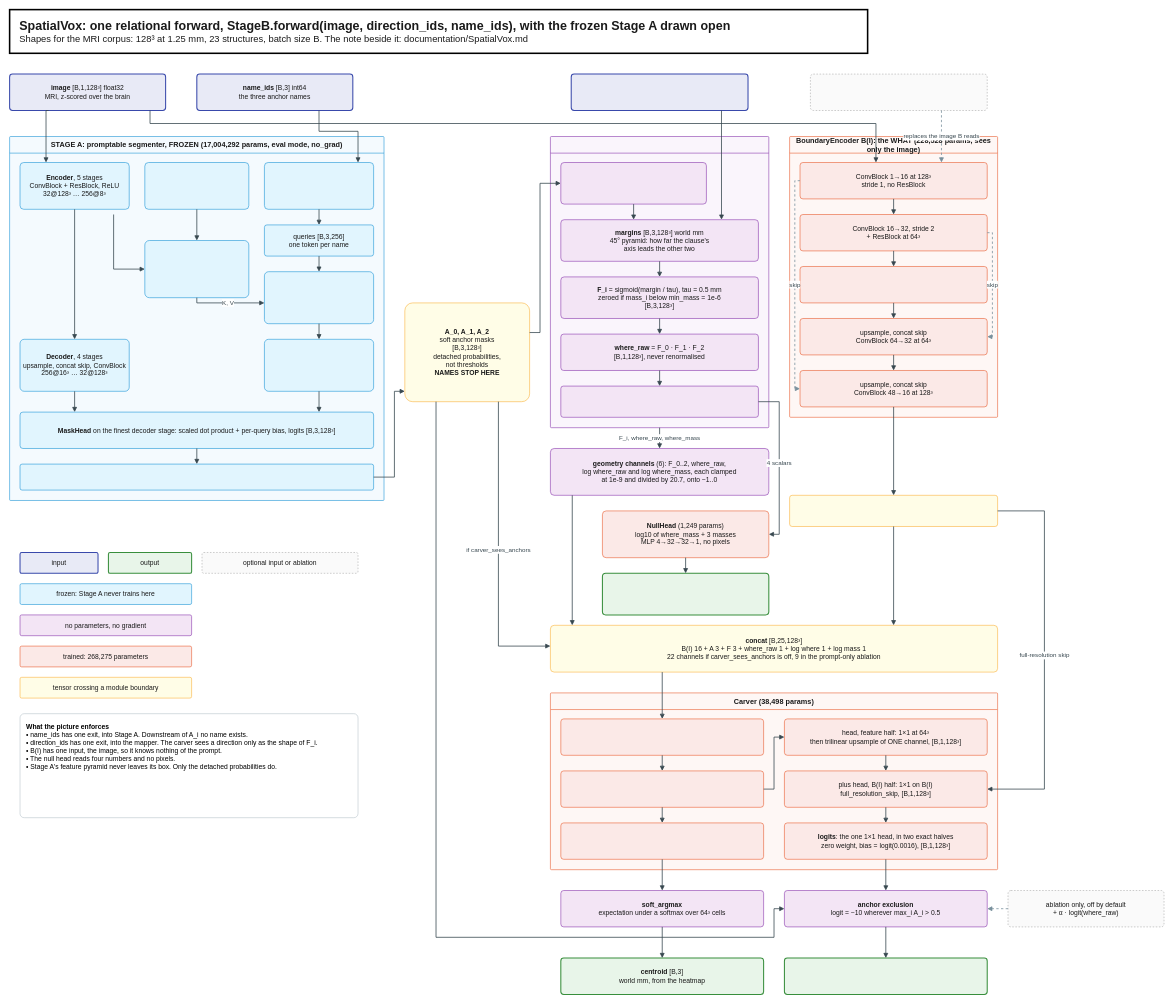
Image size: 1173x1004. Some labels were removed from this diagram. The shapes that lost their labels are listed below. From the top down, each one's box as (x1, y1, x2, y2) in pixels, then its label:
(570, 73, 748, 111): direction_ids [B,3] int64 one direction per clause
(810, 74, 987, 110): boundary_image= [B,1,128³], optional image-replacement test only
(144, 162, 249, 209): PosEnc3D pos_z + pos_y + pos_x 6,144 params
(264, 162, 374, 209): NamePrompt Embedding 23×256 then Linear 256→256
(560, 162, 706, 204): soft_centroids c_i [B,3,3] world mm mass_i [B,3]
(144, 240, 249, 298): bottleneck tokens values = flatten 8³ [B,512,256] keys = values + pos
(550, 136, 769, 428): PositionalMapper3D: the WHERE (0 params, no_grad)
(800, 266, 987, 303): ConvBlock 32→32, stride 2 + ResBlock at 32³
(264, 271, 374, 324): MultiheadAttention 256 dims, 4 heads Q = names, K = keys, V = values
(264, 339, 374, 391): LayerNorm (attended + queries) aligned queries [B,3,256]
(560, 386, 758, 417): where_mass = mean(where_raw) [B,1] plus masses [B,3]
(20, 464, 374, 490): sigmoid in float32, then detach
(789, 495, 998, 526): B(I) [B,16,128³]
(602, 573, 769, 615): valid [B]: one logit, do the clauses name a structure
(560, 718, 764, 755): stem : ConvBlock 25→16, stride 2 [B,16,64³]
(560, 770, 764, 807): 2 × ResBlock (16) [B,16,64³]
(560, 822, 764, 859): heatmap : a separate 1×1 conv [B,1,64³]
(784, 957, 987, 995): logits [B,1,128³] the target mask
